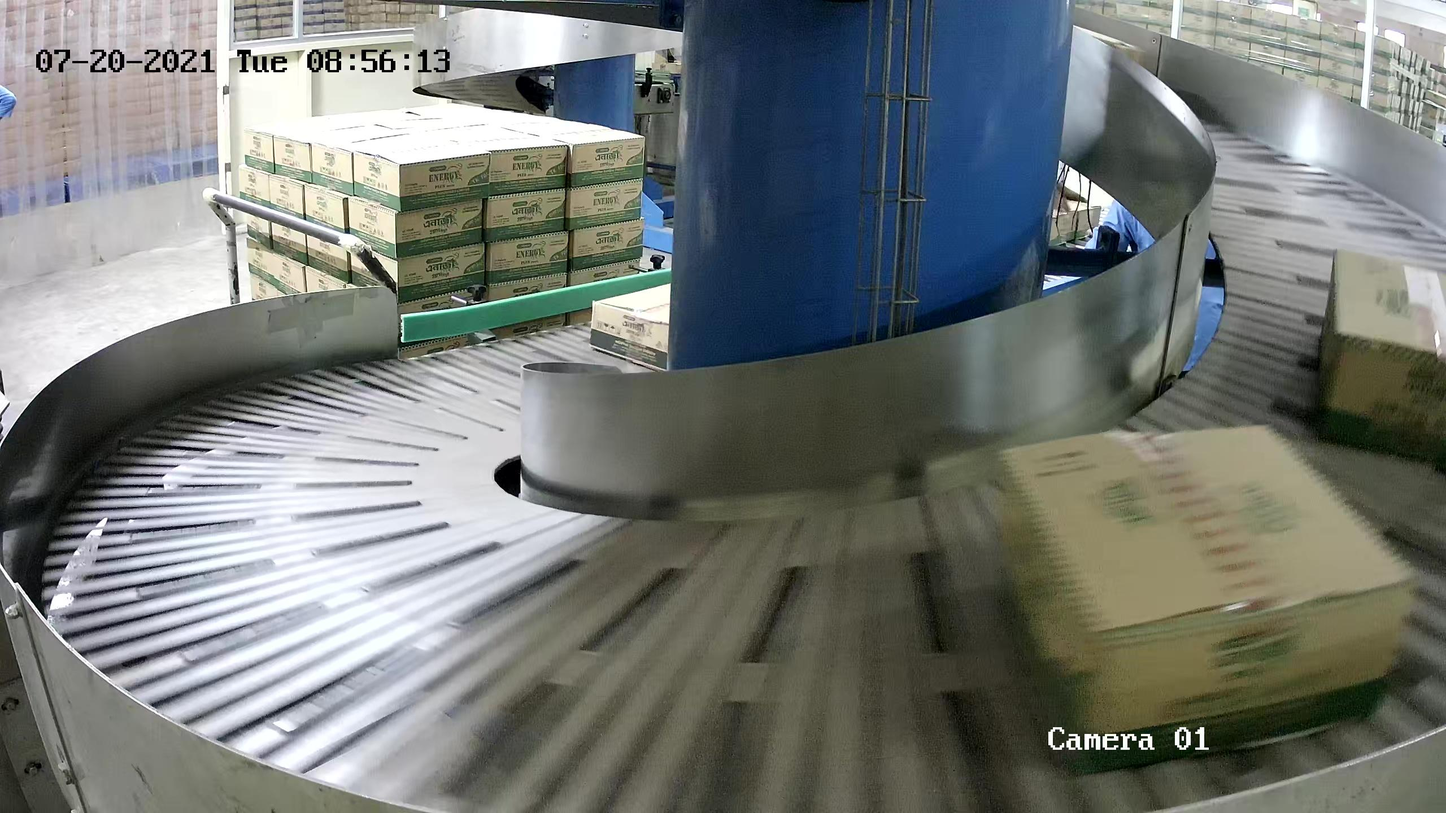Box: (997, 423, 1414, 777), (1313, 245, 1446, 474)
